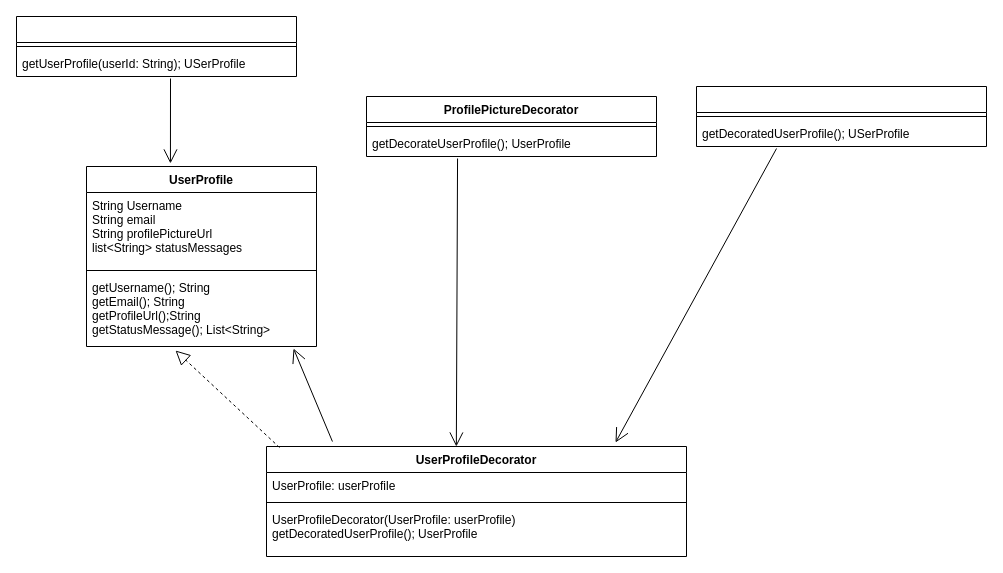
Some shapes in this 1003 by 573 pixel diagram are drawn without their labels. Here are the shapes that lost their labels. From the top down, the box of each, then its label:
(16, 16, 296, 76): UserProfileFacade
(696, 86, 986, 146): StatusMessageDecorator
